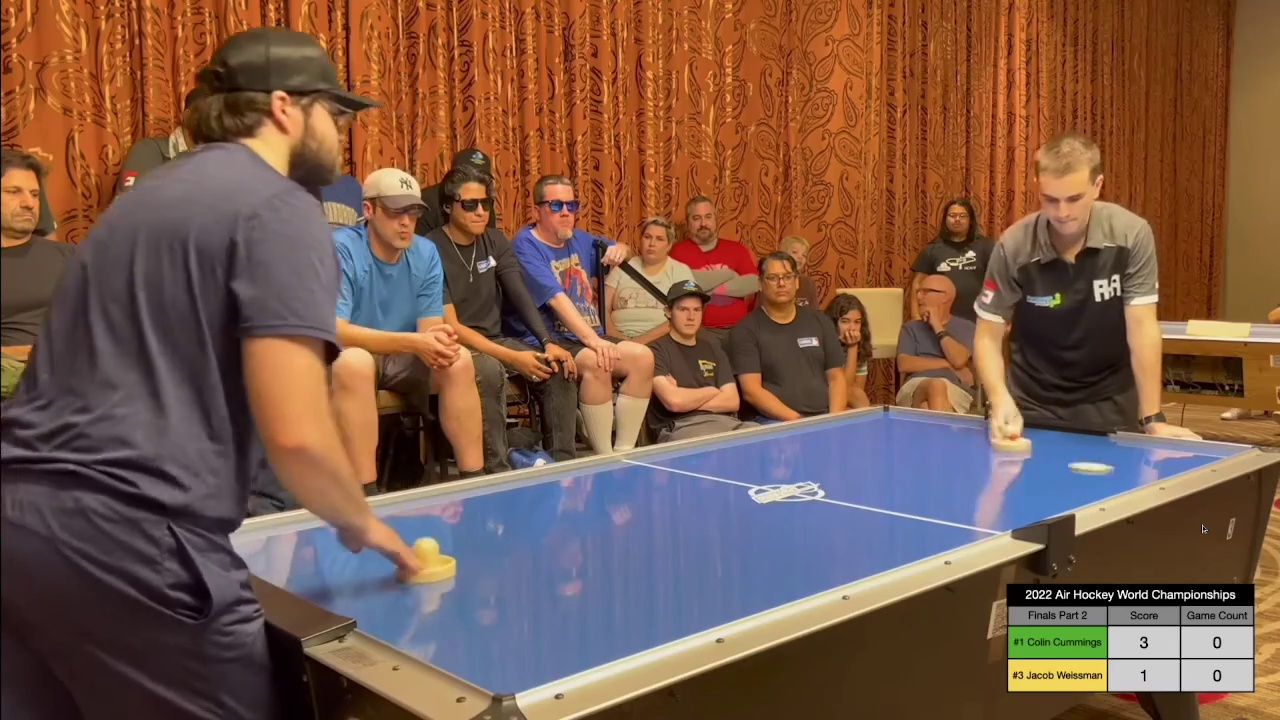player: (394, 531, 465, 588), (991, 415, 1032, 450)
puck: (1065, 457, 1116, 476)
table: (218, 398, 1280, 695)
